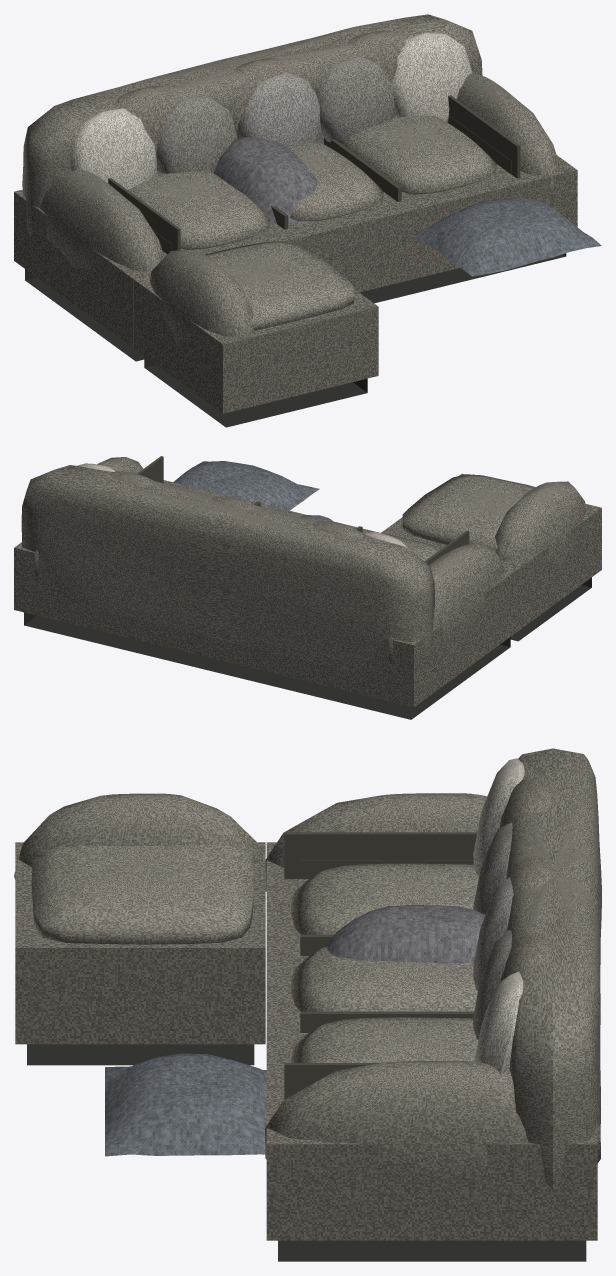
Rendered from sofa_s5.glb.
3 renders of one model, top to bottom at view 1: azimuth 30°, elevation 25°; view 2: azimuth 150°, elevation 25°; view 3: azimuth 270°, elevation 25°, orthographic. The views are drawn at different scales.
Visible parts, largest first — view 1: root; view 2: root; view 3: root.
Boxes of the visible parts, x1=… form: root: x1=14, y1=14, x2=601, y2=427; root: x1=14, y1=456, x2=601, y2=719; root: x1=14, y1=748, x2=601, y2=1261.
Bounding box in the file's own units: 2.32 × 0.8853 × 1.89.
11 materials, 9 textured.
